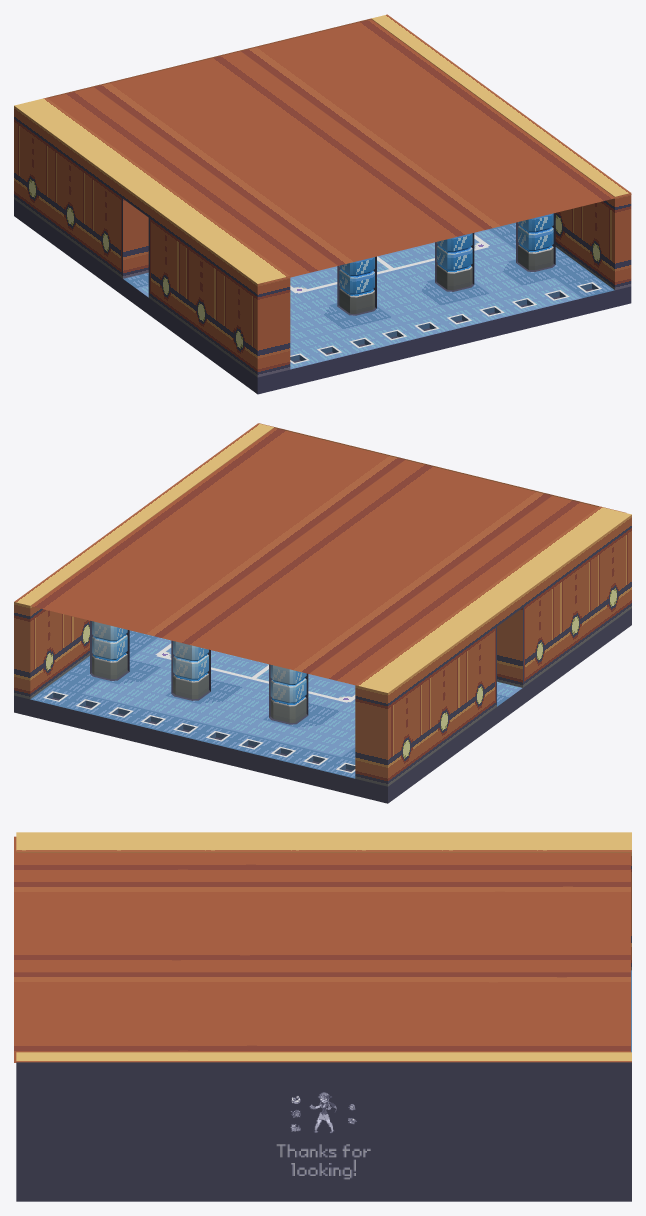
File: LoreleiArena.glb
3 views of the same model, one above another, from view 1: azimuth 30°, elevation 25°; view 2: azimuth 150°, elevation 25°; view 3: azimuth 270°, elevation 25° (orthographic). The views are drawn at different scales.
Parts seen in each view (by area): view 1: wall_left_fireRed_loreleiRoom_0.001, wall_front, floor, floor_below, wall_back, ice_pillar_04, ice_pillar_05, ice_pillar_03, ice_pillar_outline, arena, wall_left; view 2: wall_left_fireRed_loreleiRoom_0.001, wall_front, floor, floor_below, wall_back, ice_pillar_00, ice_pillar_01, ice_pillar_02, ice_pillar_outline, arena; view 3: wall_left_fireRed_loreleiRoom_0.001, wall_back, floor_below, wall_front, misc.
Boxes of the visible parts, <box> form: wall_left_fireRed_loreleiRoom_0.001: <box>48,19,631,283</box>; wall_front: <box>14,97,290,377</box>; floor: <box>123,222,614,369</box>; floor_below: <box>14,199,631,394</box>; wall_back: <box>371,14,631,290</box>; ice_pillar_04: <box>436,233,472,290</box>; ice_pillar_05: <box>518,213,553,270</box>; ice_pillar_03: <box>339,257,374,313</box>; ice_pillar_outline: <box>337,213,555,315</box>; arena: <box>290,234,489,293</box>; wall_left: <box>47,18,371,98</box>; wall_left_fireRed_loreleiRoom_0.001: <box>31,423,625,685</box>; wall_front: <box>355,506,631,786</box>; floor: <box>30,630,522,778</box>; floor_below: <box>14,608,631,803</box>; wall_back: <box>14,423,274,699</box>; ice_pillar_00: <box>270,665,306,722</box>; ice_pillar_01: <box>173,641,208,699</box>; ice_pillar_02: <box>92,621,127,679</box>; ice_pillar_outline: <box>90,620,308,724</box>; arena: <box>155,643,355,702</box>; wall_left_fireRed_loreleiRoom_0.001: <box>14,836,630,1062</box>; wall_back: <box>16,1052,631,1180</box>; floor_below: <box>16,1180,631,1201</box>; wall_front: <box>16,832,631,970</box>; misc: <box>276,1092,370,1179</box>.
Size of the model in its own units: 32.71 by 9.24 by 37.09.
3 materials, 3 textured.
